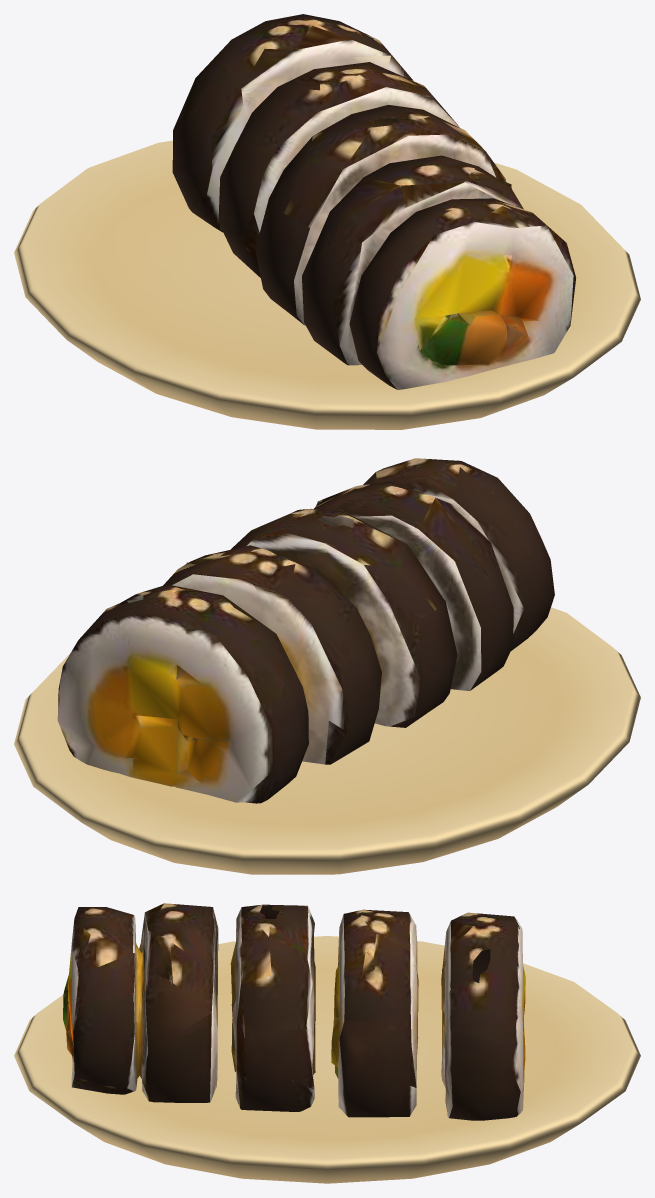
The picture shows the model from 3 angles, top to bottom: view 1: azimuth 30°, elevation 25°; view 2: azimuth 150°, elevation 25°; view 3: azimuth 270°, elevation 25°; orthographic projection. The views are drawn at different scales.
Visible parts, largest first — view 1: gimbap; view 2: gimbap; view 3: gimbap.
Part boxes in pixels (<box>): gimbap: <box>14,14,640,429</box>; gimbap: <box>14,458,640,874</box>; gimbap: <box>14,903,640,1183</box>.
Size of the model in its own units: 0.1738 by 0.0742 by 0.2007.
2 materials, 1 textured.
